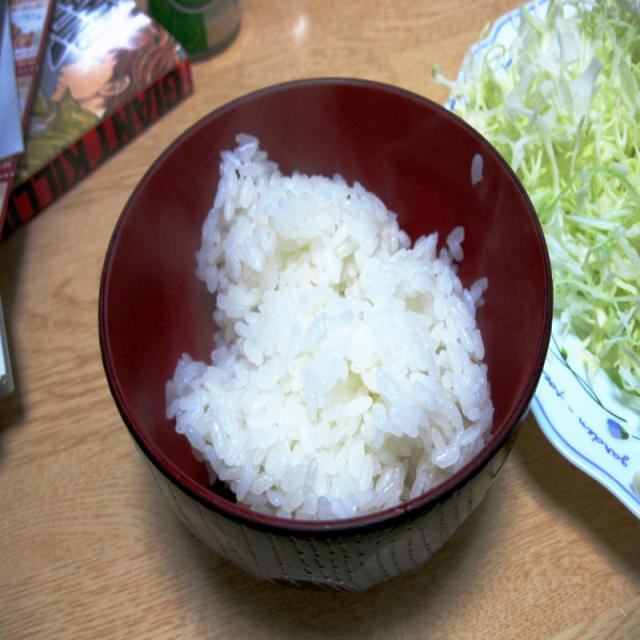rice: (163, 133, 494, 520)
